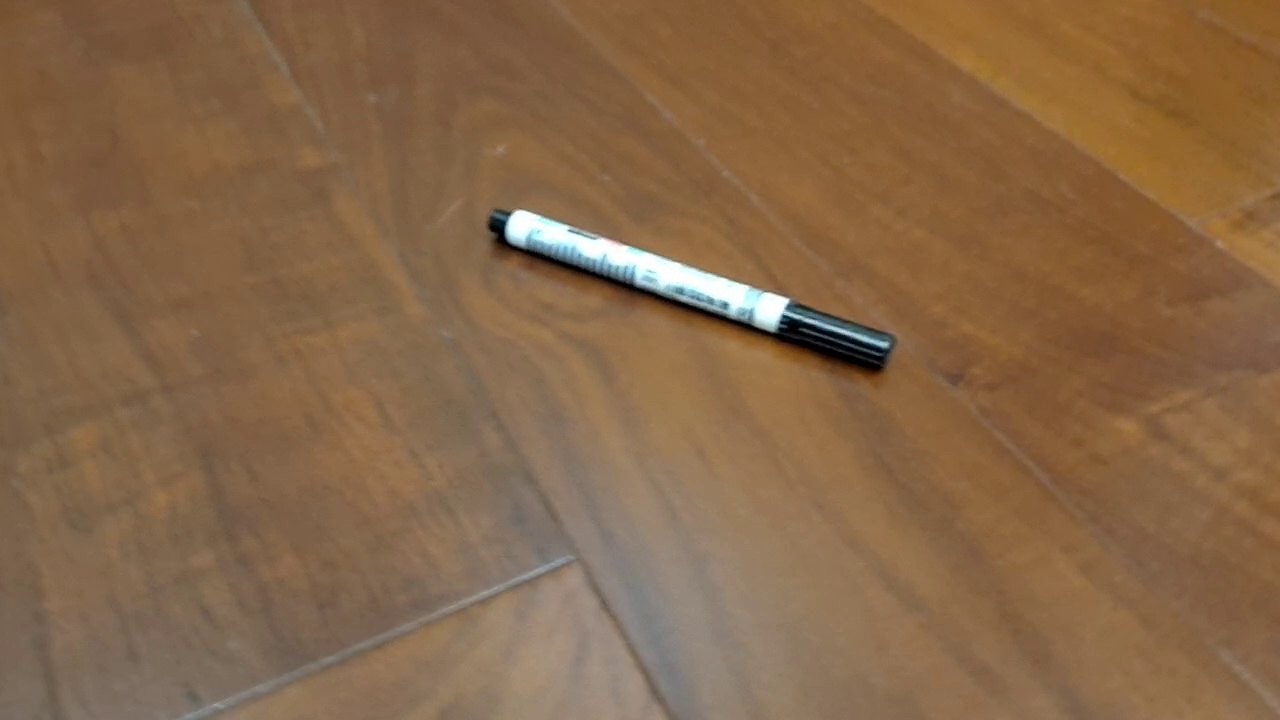pen: (487, 207, 898, 372)
